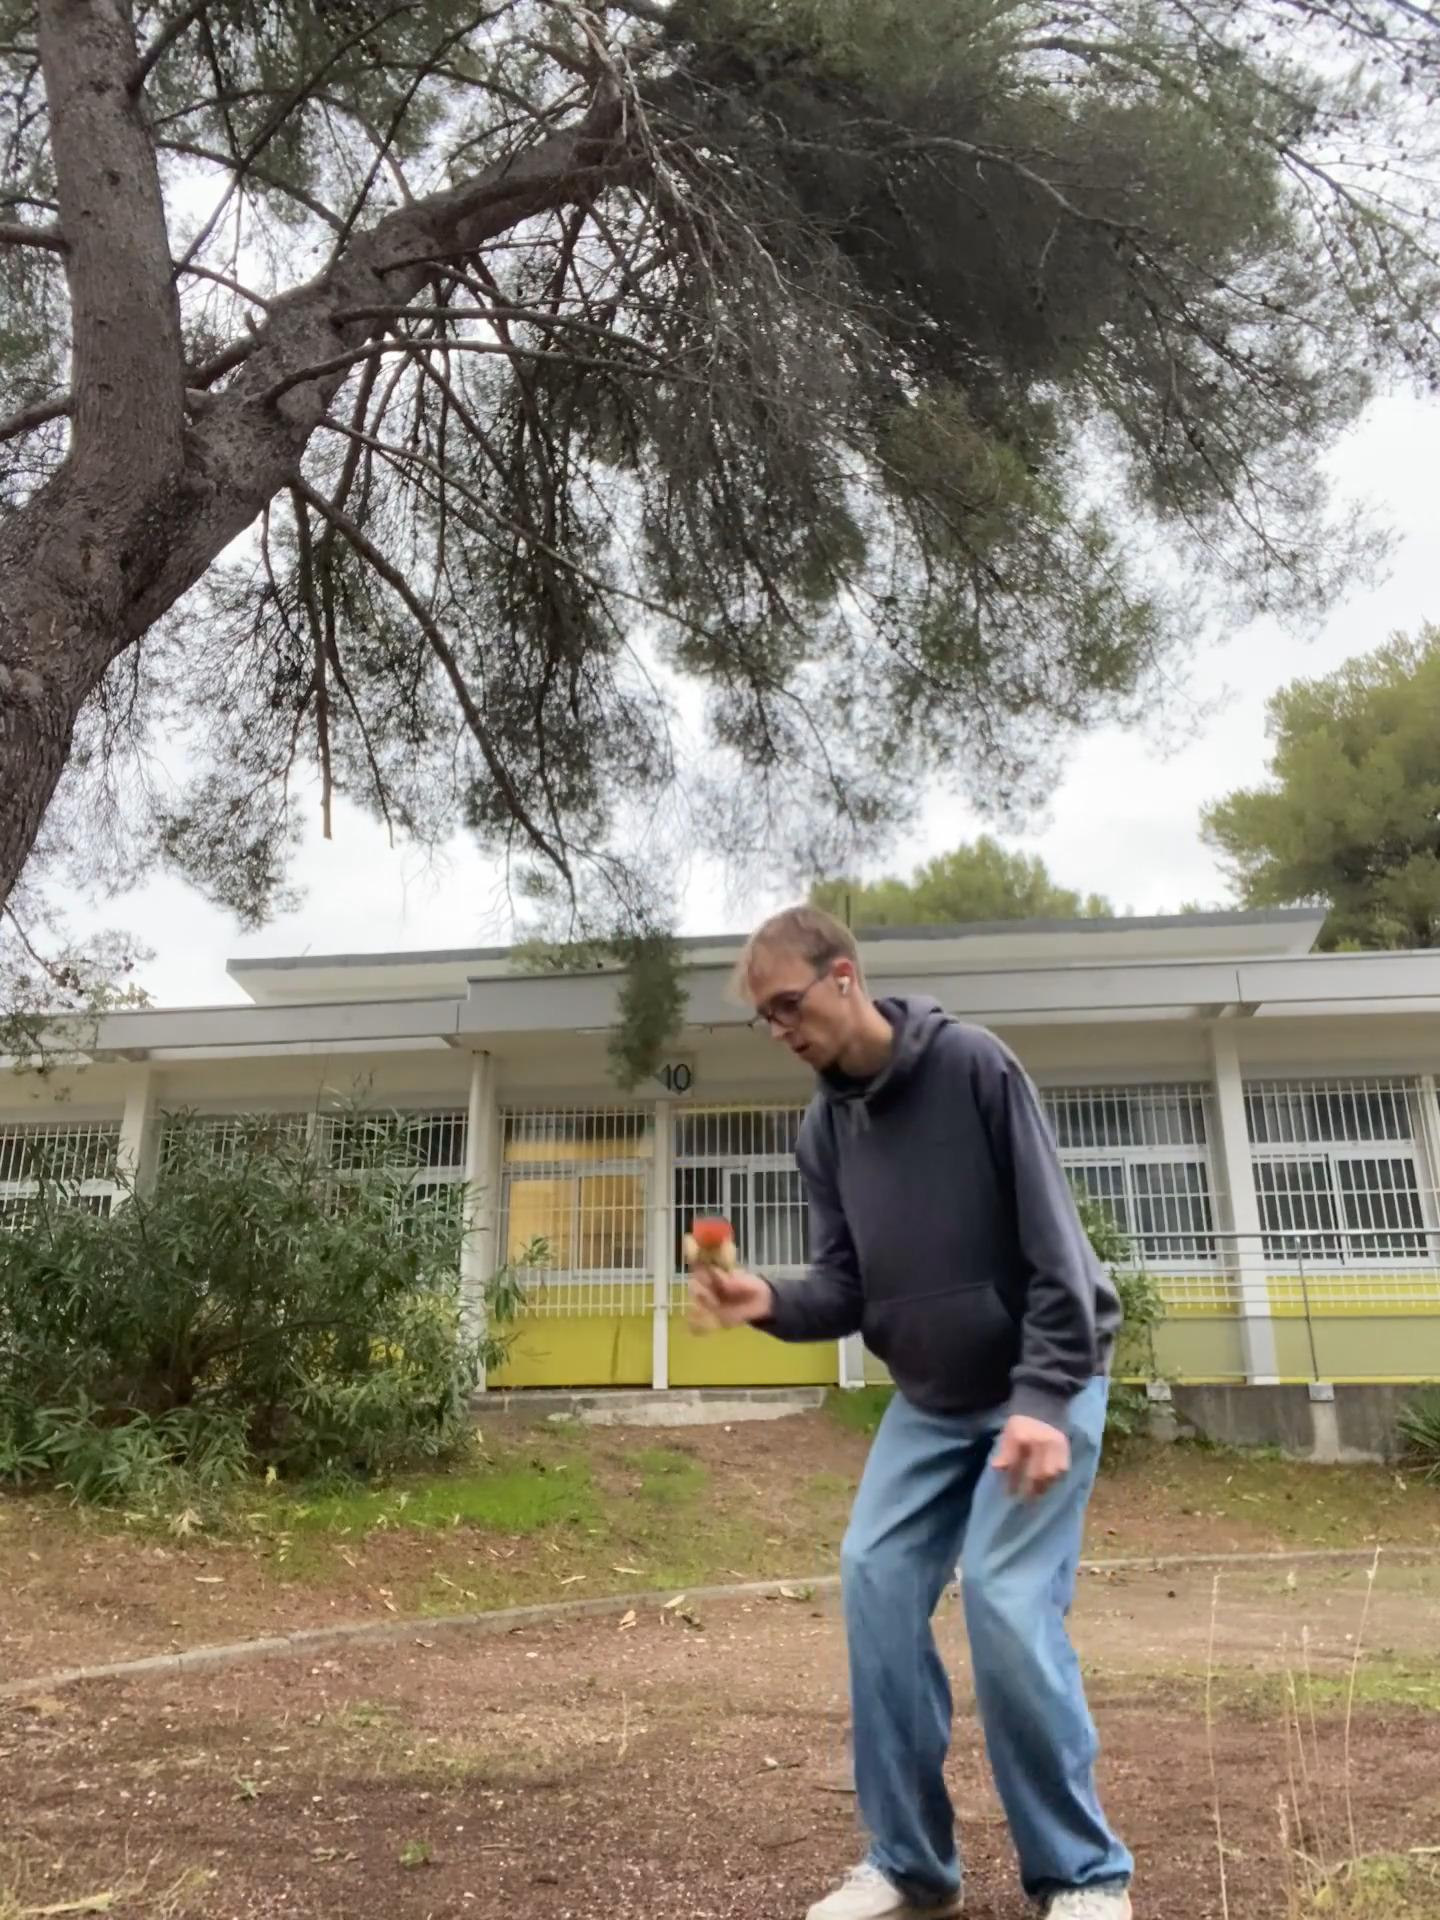kendama_ball: (693, 1212, 734, 1253)
